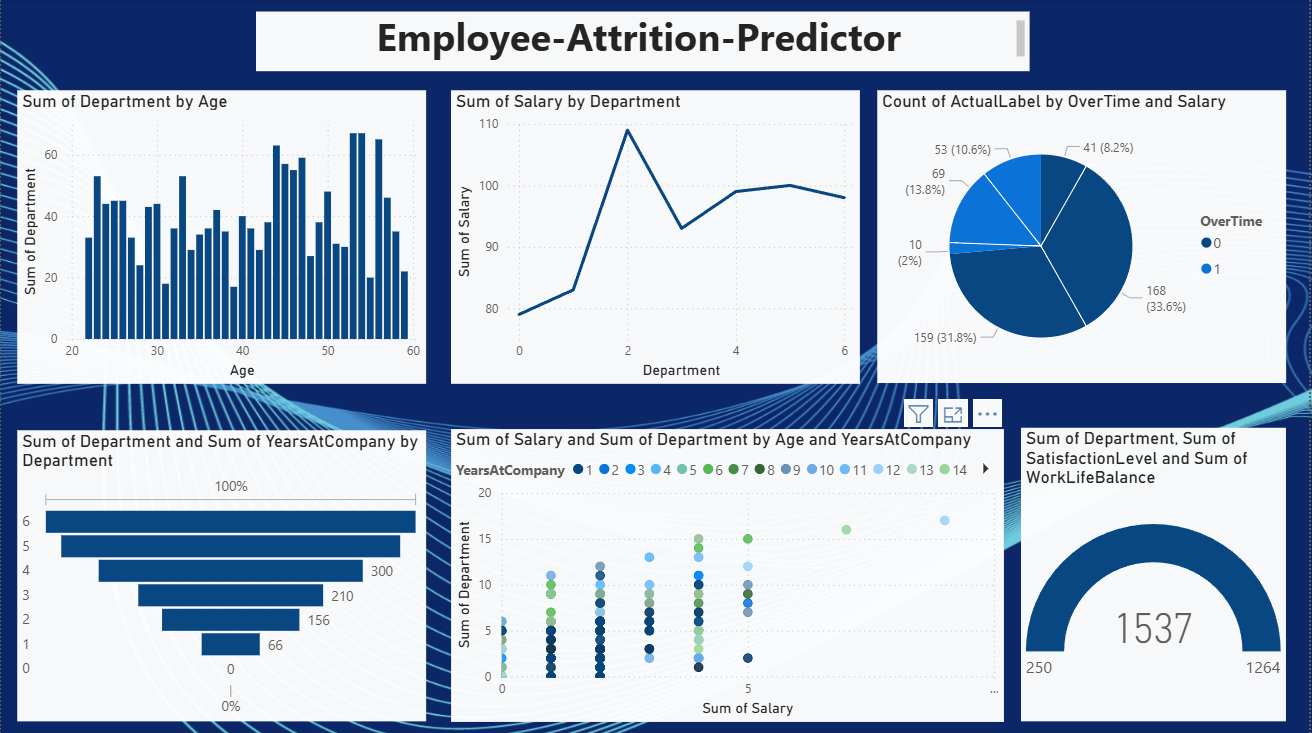

The page's visual inventory and layout, read from the dashboard file:
{"tool":"powerbi","page":{"name":"Page 1","canvas":[1280,720],"ordinal":0},"visuals":[{"type":"columnChart","fields":{"Category":["PowerBI_Ready_HR_Data.Age"],"Y":["Sum(PowerBI_Ready_HR_Data.Department)"]},"box":[15.9,89.3,399.9,287.4],"z":0},{"type":"lineChart","fields":{"Y":["Sum(PowerBI_Ready_HR_Data.Salary)"],"Category":["PowerBI_Ready_HR_Data.Department"]},"box":[440.2,89.3,399.9,287.4],"z":1000},{"type":"pieChart","fields":{"Series":["PowerBI_Ready_HR_Data.Salary"],"Y":["CountNonNull(PowerBI_Ready_HR_Data.ActualLabel)"],"Category":["PowerBI_Ready_HR_Data.OverTime"]},"box":[857.2,89.3,399.9,286.1],"z":2000},{"type":"funnel","fields":{"Y":["Sum(PowerBI_Ready_HR_Data.Department)"],"Category":["PowerBI_Ready_HR_Data.Department"]},"box":[15.9,421.9,399.9,284.9],"z":3000},{"type":"gauge","fields":{"MaxValue":["Sum(PowerBI_Ready_HR_Data.WorkLifeBalance)"],"MinValue":["Sum(PowerBI_Ready_HR_Data.SatisfactionLevel)"],"Y":["Sum(PowerBI_Ready_HR_Data.Department)"]},"box":[997.8,419.4,259.2,287.4],"z":4000},{"type":"scatterChart","fields":{"Series":["PowerBI_Ready_HR_Data.YearsAtCompany"],"X":["Sum(PowerBI_Ready_HR_Data.Salary)"],"Y":["Sum(PowerBI_Ready_HR_Data.Department)"],"Category":["PowerBI_Ready_HR_Data.Age"]},"box":[440.2,420.7,540.5,286.1],"z":5000},{"type":"textbox","box":[249.5,12.2,756.9,58.7],"z":5001}]}

Visuals, with their boxes in screenshot pixels (x1, y1, x2, y2), scaled from the page's 1280x720 canvas onto the 1312x733 screenshot:
columnChart - PowerBI_Ready_HR_Data.Age x Sum(PowerBI_Ready_HR_Data.Department): (x1=16, y1=91, x2=426, y2=384)
lineChart - Sum(PowerBI_Ready_HR_Data.Salary) x PowerBI_Ready_HR_Data.Department: (x1=451, y1=91, x2=861, y2=384)
pieChart - PowerBI_Ready_HR_Data.Salary x CountNonNull(PowerBI_Ready_HR_Data.ActualLabel): (x1=879, y1=91, x2=1289, y2=382)
funnel - Sum(PowerBI_Ready_HR_Data.Department) x PowerBI_Ready_HR_Data.Department: (x1=16, y1=430, x2=426, y2=720)
gauge - Sum(PowerBI_Ready_HR_Data.WorkLifeBalance) x Sum(PowerBI_Ready_HR_Data.SatisfactionLevel): (x1=1023, y1=427, x2=1288, y2=720)
scatterChart - PowerBI_Ready_HR_Data.YearsAtCompany x Sum(PowerBI_Ready_HR_Data.Salary): (x1=451, y1=428, x2=1005, y2=720)
textbox: (x1=256, y1=12, x2=1032, y2=72)
